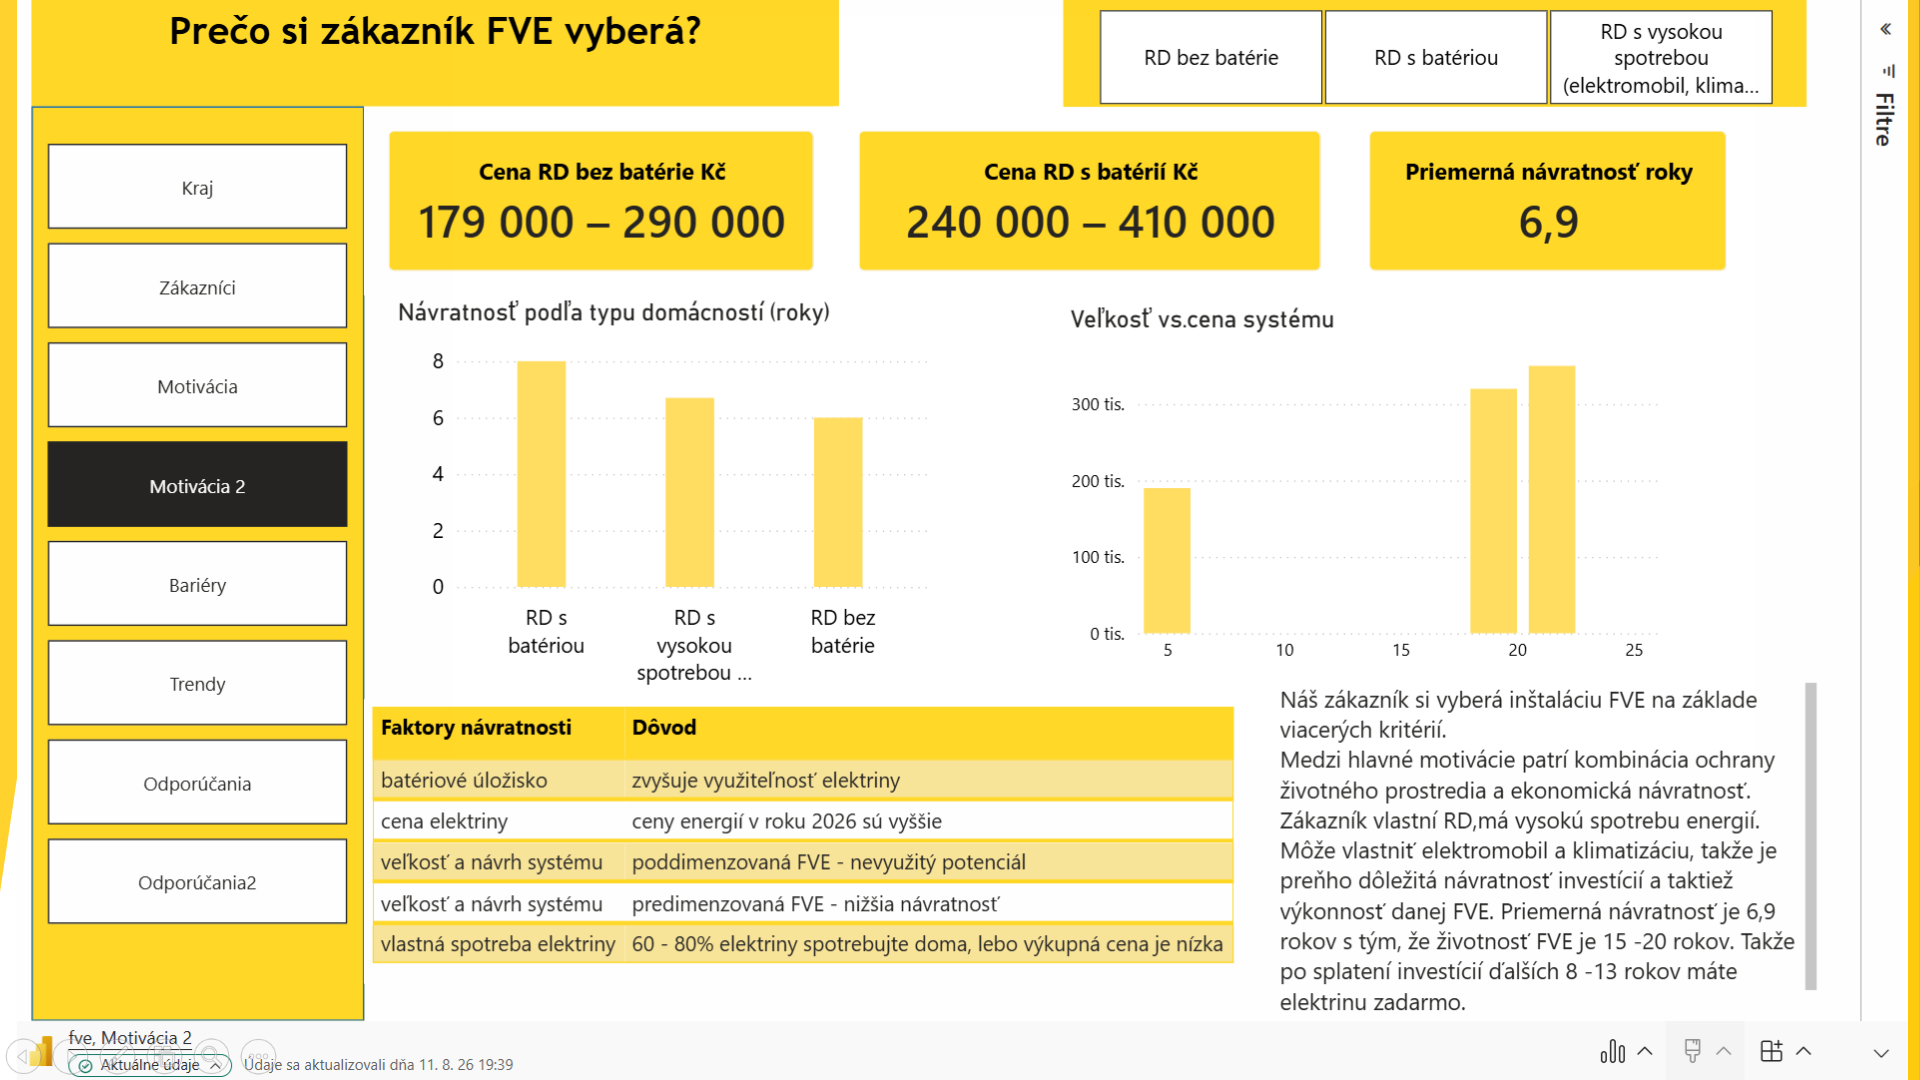

Layout of this report page (visuals, bound fields, positions):
{"tool":"powerbi","page":{"name":"Motivácia 2","canvas":[1280,720],"ordinal":3},"visuals":[{"type":"textbox","box":[0,0,569.5,75.5],"z":0},{"type":"shape","box":[0,75.1,234.6,644.9],"z":1000},{"type":"columnChart","title":"Návratnosť podľa typu domácností (roky)","fields":{"Category":["Modely návratnosti.Dom"],"Y":["Sum(Modely návratnosti.Návratnosť)"]},"box":[253.9,208.6,385.6,282.7],"z":6000},{"type":"columnChart","title":"Veľkosť vs.cena  systému","fields":{"Category":["Modely návratnosti.Veľkosť KWp"],"Y":["Sum(Modely návratnosti.cena Kč)"]},"box":[727.3,214.1,426.8,262.1],"z":7000},{"type":"cardVisual","fields":{"Data":["Min(Cena FVE rodinny dom.Cena)"]},"box":[234.6,75.5,334.8,133.1],"z":8000},{"type":"cardVisual","fields":{"Data":["Min(Cena FVE rodinny dom.Cena)"]},"box":[565.4,75.5,360.9,133.1],"z":9000},{"type":"cardVisual","fields":{"Data":["Avg(Modely návratnosti.Návratnosť)"]},"box":[926.2,75.5,286.8,133.1],"z":10000},{"type":"tableEx","fields":{"Values":["Faktory navratnosti.Faktory návratnosti","Faktory navratnosti.Dôvod"]},"box":[234.6,492.6,624.4,200.3],"z":11000},{"type":"slicer","fields":{"Values":["Modely návratnosti.Dom"]},"box":[727.3,0,524.2,75.5],"z":12000},{"type":"textbox","box":[875.5,476.2,388.3,244.3],"z":14000},{"type":"pageNavigator","box":[11.4,101.4,211.4,551.4],"z":14001}]}

Visuals, with their boxes on the page's 1280x720 design canvas (x1, y1, x2, y2). These are canvas units, not pixel positions in the 1920x1080 screenshot, which may show the page scaled, cropped or inside an application window:
textbox: select_region(0, 0, 570, 76)
shape: select_region(0, 75, 235, 720)
"Návratnosť podľa typu domácností (roky)" columnChart: select_region(254, 209, 640, 491)
"Veľkosť vs.cena  systému" columnChart: select_region(727, 214, 1154, 476)
cardVisual - Min(Cena FVE rodinny dom.Cena): select_region(235, 76, 569, 209)
cardVisual - Min(Cena FVE rodinny dom.Cena): select_region(565, 76, 926, 209)
cardVisual - Avg(Modely návratnosti.Návratnosť): select_region(926, 76, 1213, 209)
tableEx - Faktory navratnosti.Faktory návratnosti x Faktory navratnosti.Dôvod: select_region(235, 493, 859, 693)
slicer - Modely návratnosti.Dom: select_region(727, 0, 1252, 76)
textbox: select_region(876, 476, 1264, 720)
pageNavigator: select_region(11, 101, 223, 653)
